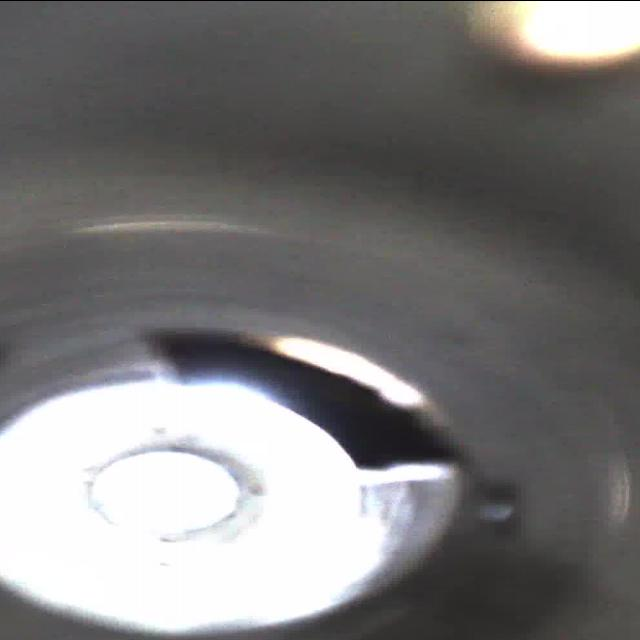hole: (130, 310, 506, 486)
